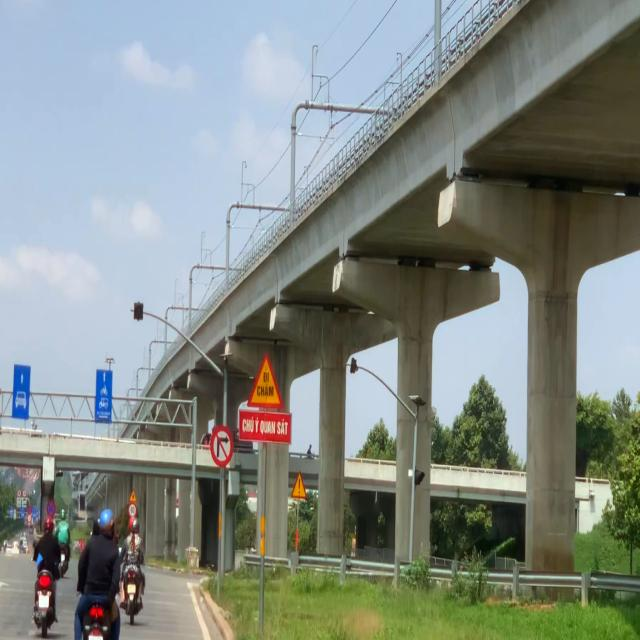Cam dung va do: (46, 500, 56, 517)
Cam re phai: (210, 426, 234, 468)
Nguy hiem: (247, 351, 285, 409), (290, 470, 308, 499)
Toc do toi da: (128, 503, 137, 518)
